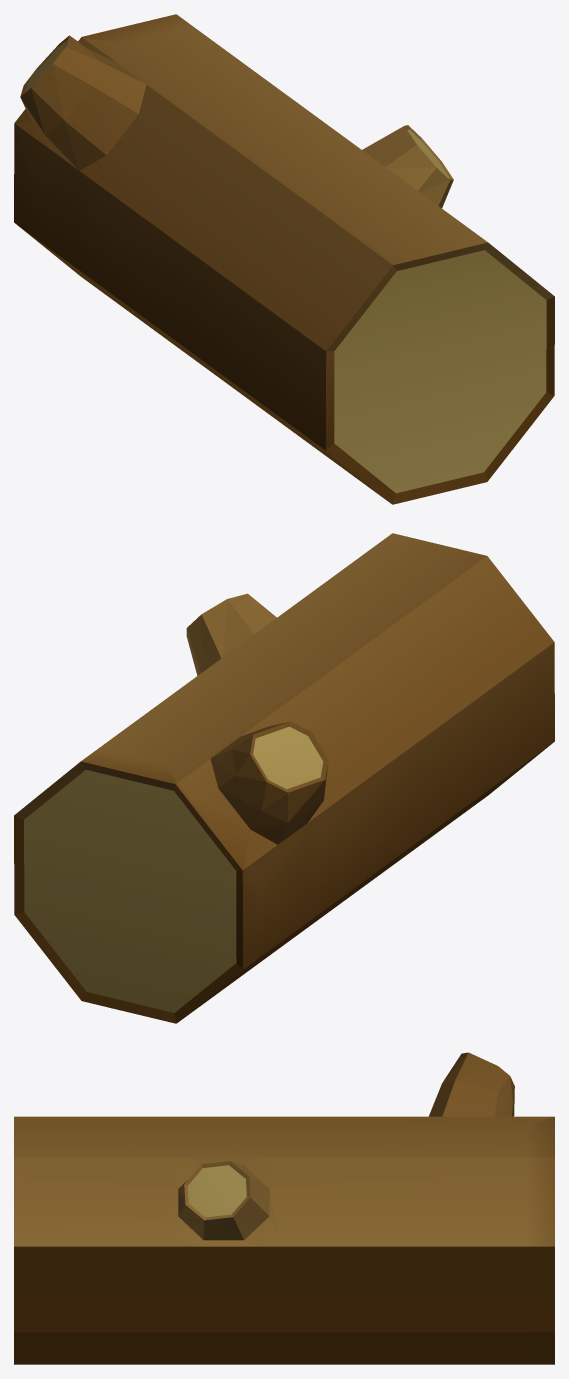
Rendered from TreeChunk_01.FBX.
3 views of the same model, one above another, from view 1: azimuth 30°, elevation 25°; view 2: azimuth 150°, elevation 25°; view 3: azimuth 270°, elevation 25° (orthographic). The views are drawn at different scales.
Visible parts, largest first — view 1: Tree chunk 1; view 2: Tree chunk 1; view 3: Tree chunk 1.
Boxes of the visible parts, x1,y1,x2,y2 form: Tree chunk 1: [14, 14, 554, 504]; Tree chunk 1: [14, 533, 554, 1023]; Tree chunk 1: [14, 1052, 554, 1364].
Size of the model in its own units: 79.1 by 76.17 by 153.
